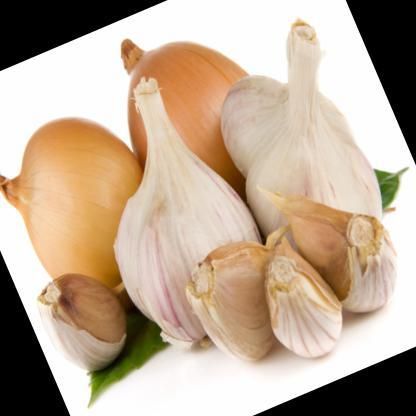onion: (0, 84, 183, 323)
